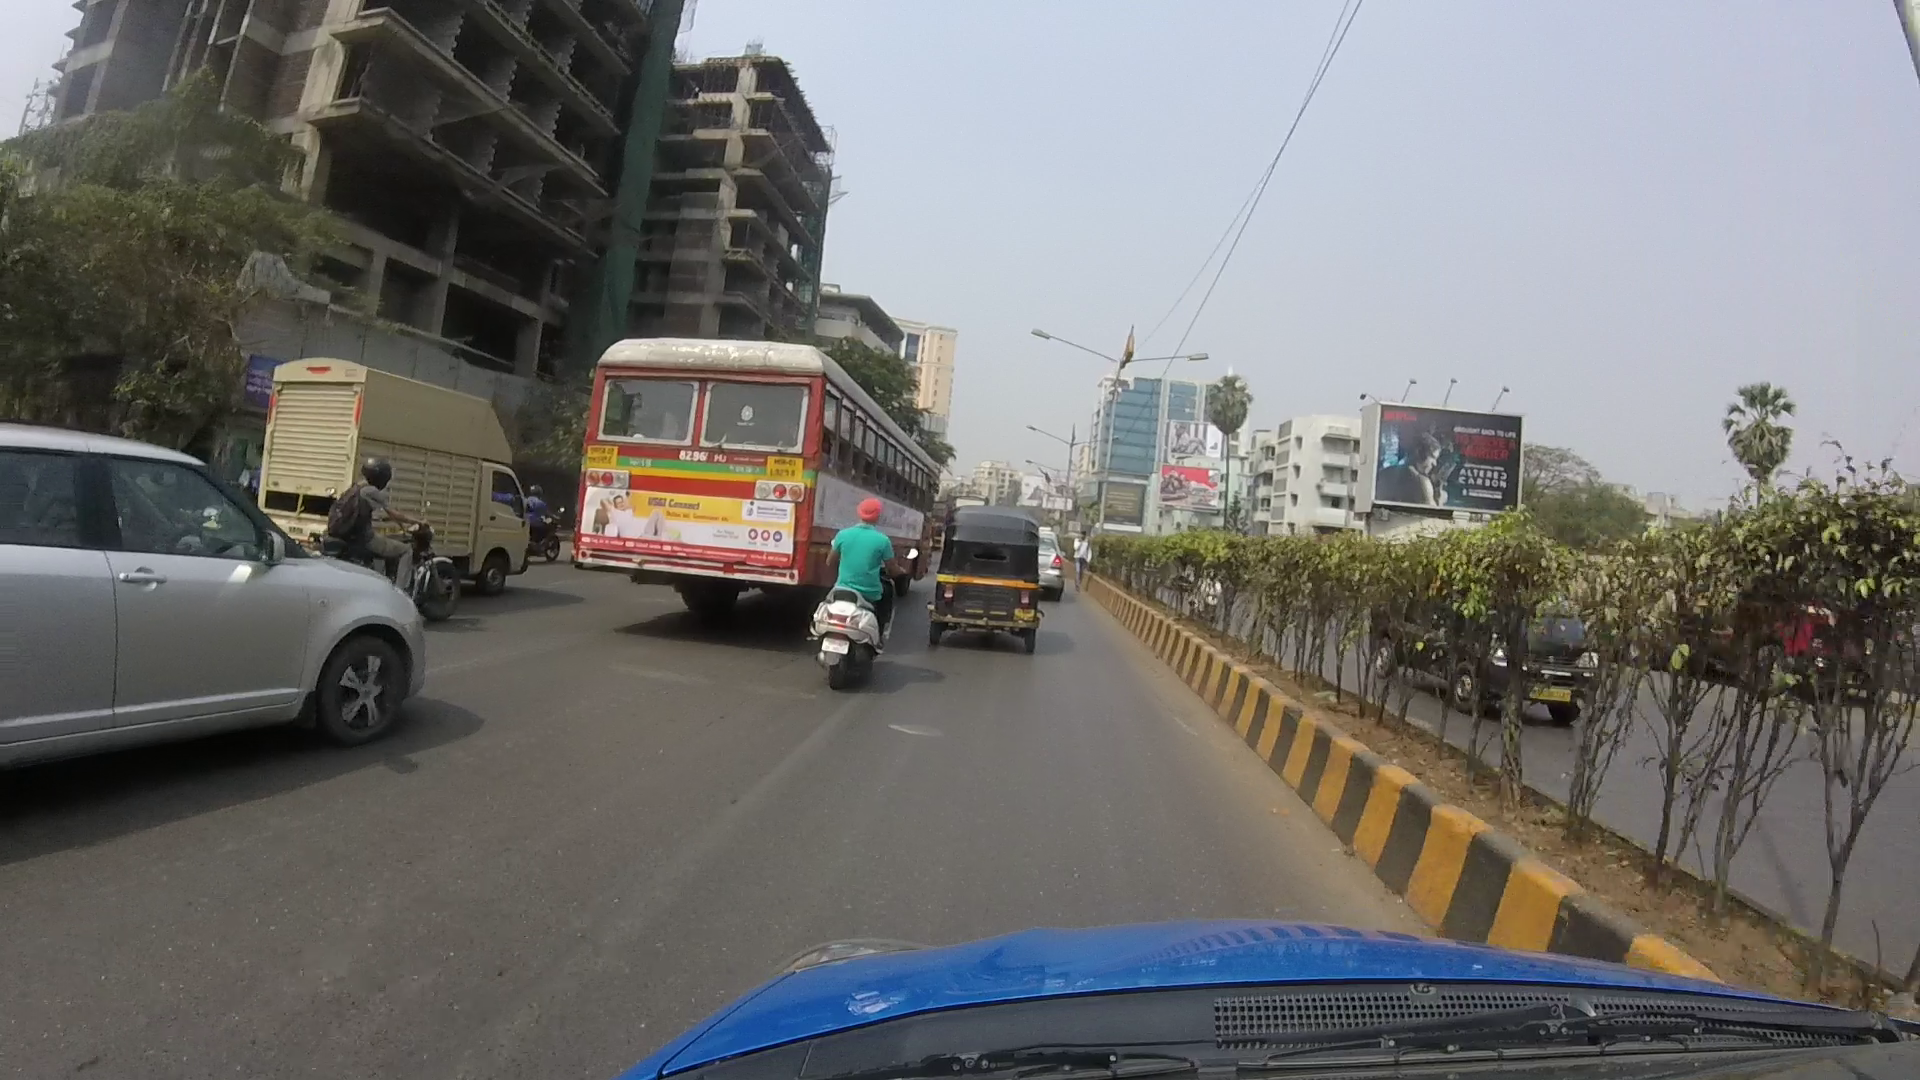bike/scooter: (808, 483, 895, 674)
bus: (568, 345, 945, 601)
car: (11, 439, 411, 752)
rickshaw: (940, 498, 1043, 630)
truck: (269, 351, 527, 583)
